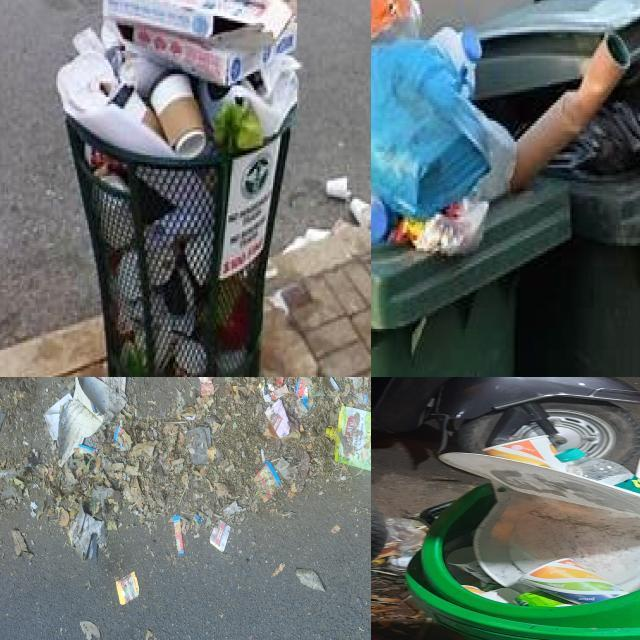Background: (0, 377, 371, 640)
Garbage: (408, 435, 640, 640), (371, 0, 519, 264), (58, 0, 299, 156)
Plastic_Bag: (371, 0, 511, 268), (374, 518, 427, 572)
Plastic_bottle: (556, 448, 640, 494)
Plastic_wraper: (335, 406, 371, 471), (254, 462, 282, 501), (116, 572, 139, 605), (210, 520, 231, 552), (173, 515, 184, 555), (114, 427, 132, 451), (199, 377, 214, 396), (296, 379, 309, 398), (78, 444, 96, 457)
